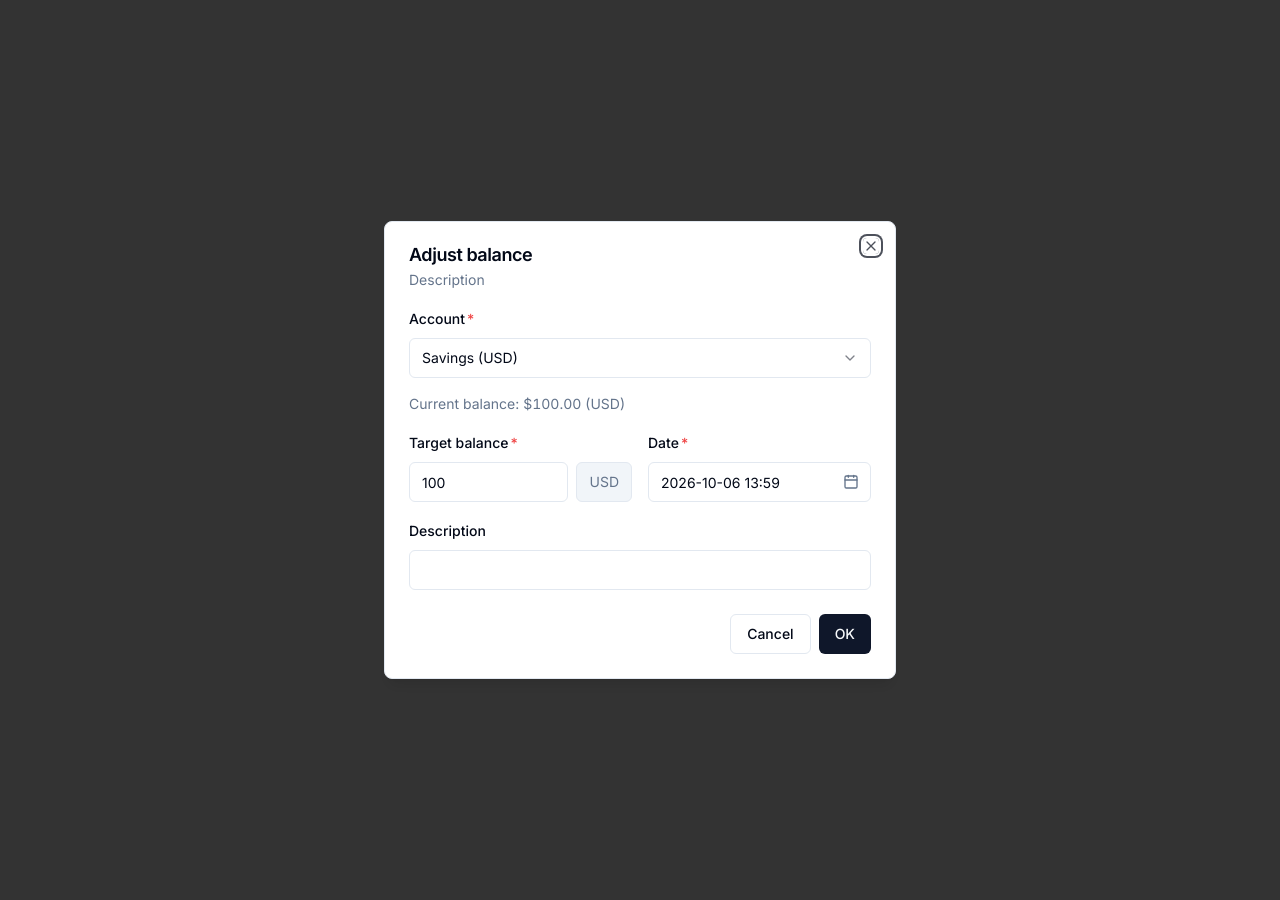
Test case: AdjustBalanceDialog › re-prefills target balance to the newly selected account balance on switch
expect the number field labelled "Target balance*" holds "100": met, box x1=409 y1=462 x2=568 y2=502
Click the dropdown named "account" at [448, 358], box x1=409 y1=338 x2=871 y2=378
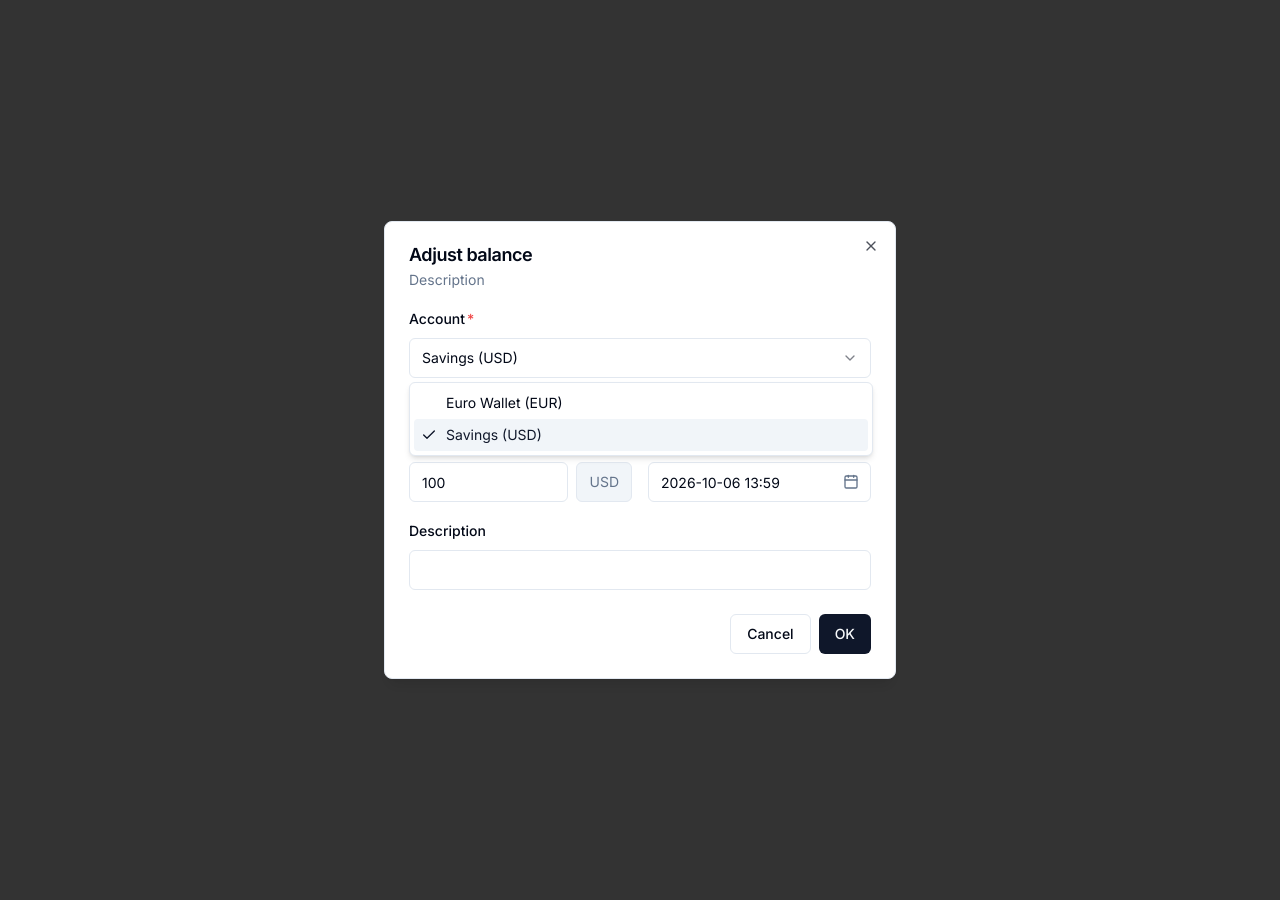
Click the option "Euro Wallet (EUR)" at [504, 402], box x1=446 y1=394 x2=562 y2=411
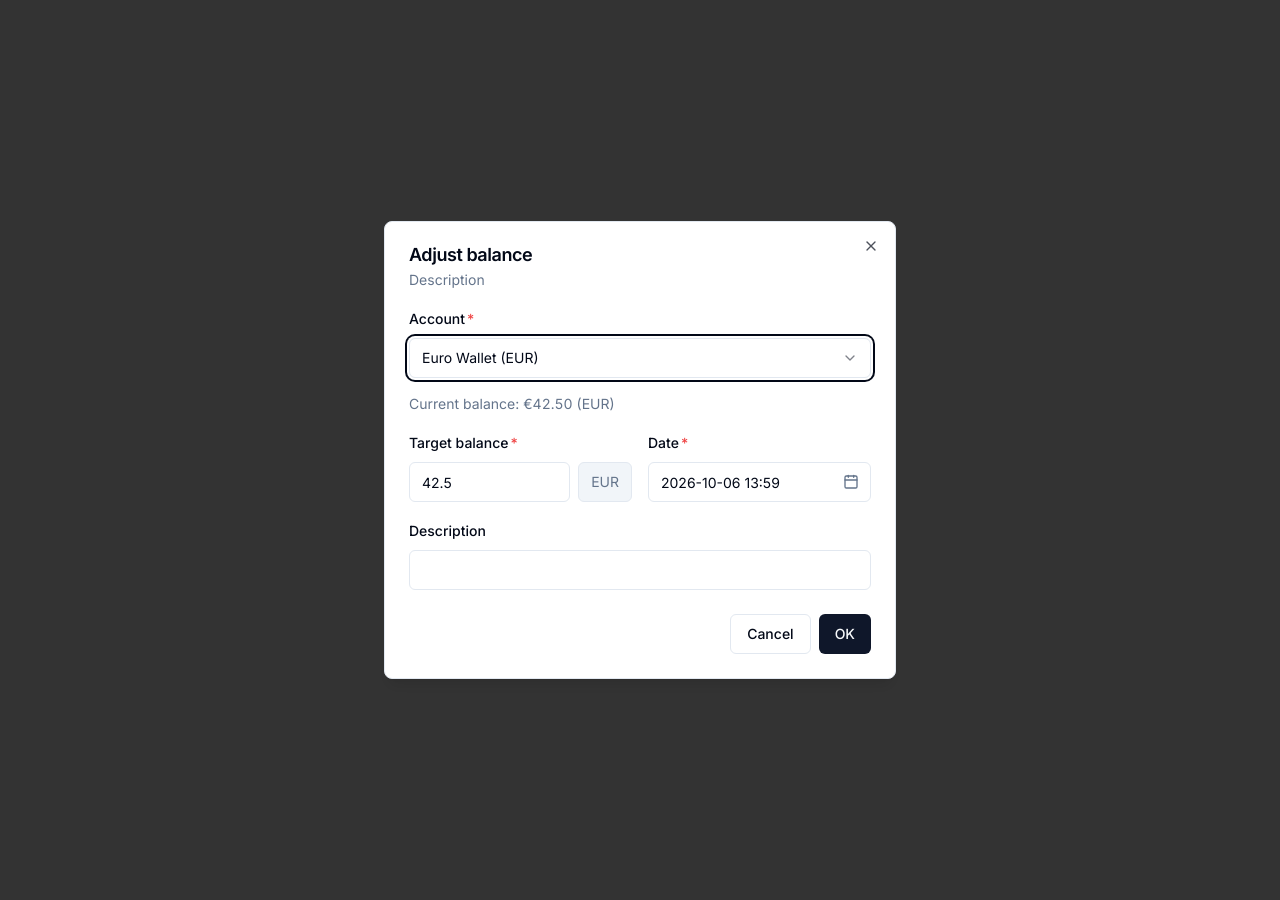
expect the number field labelled "Target balance*" holds "42.5": met, box x1=409 y1=462 x2=570 y2=502
